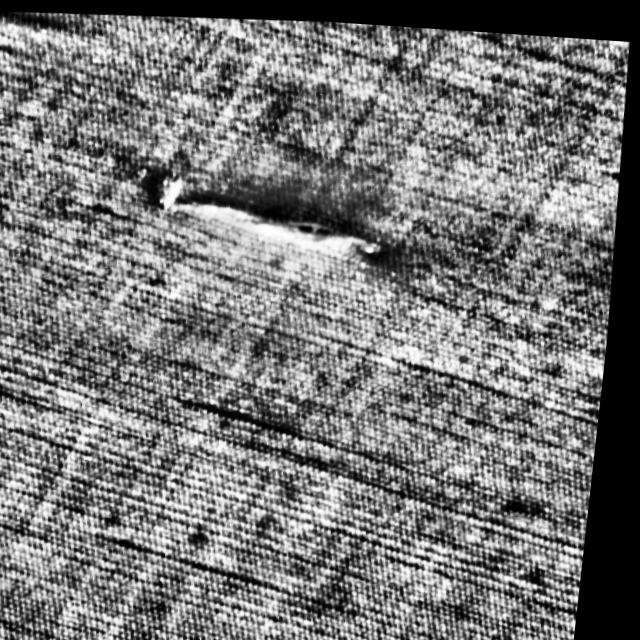Stitch: (129, 142, 409, 293)
